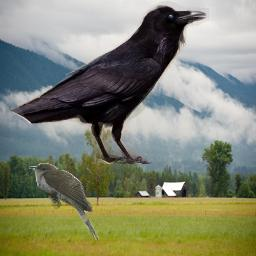Crow: (8, 0, 209, 164)
Cuckoo: (29, 163, 99, 243)
